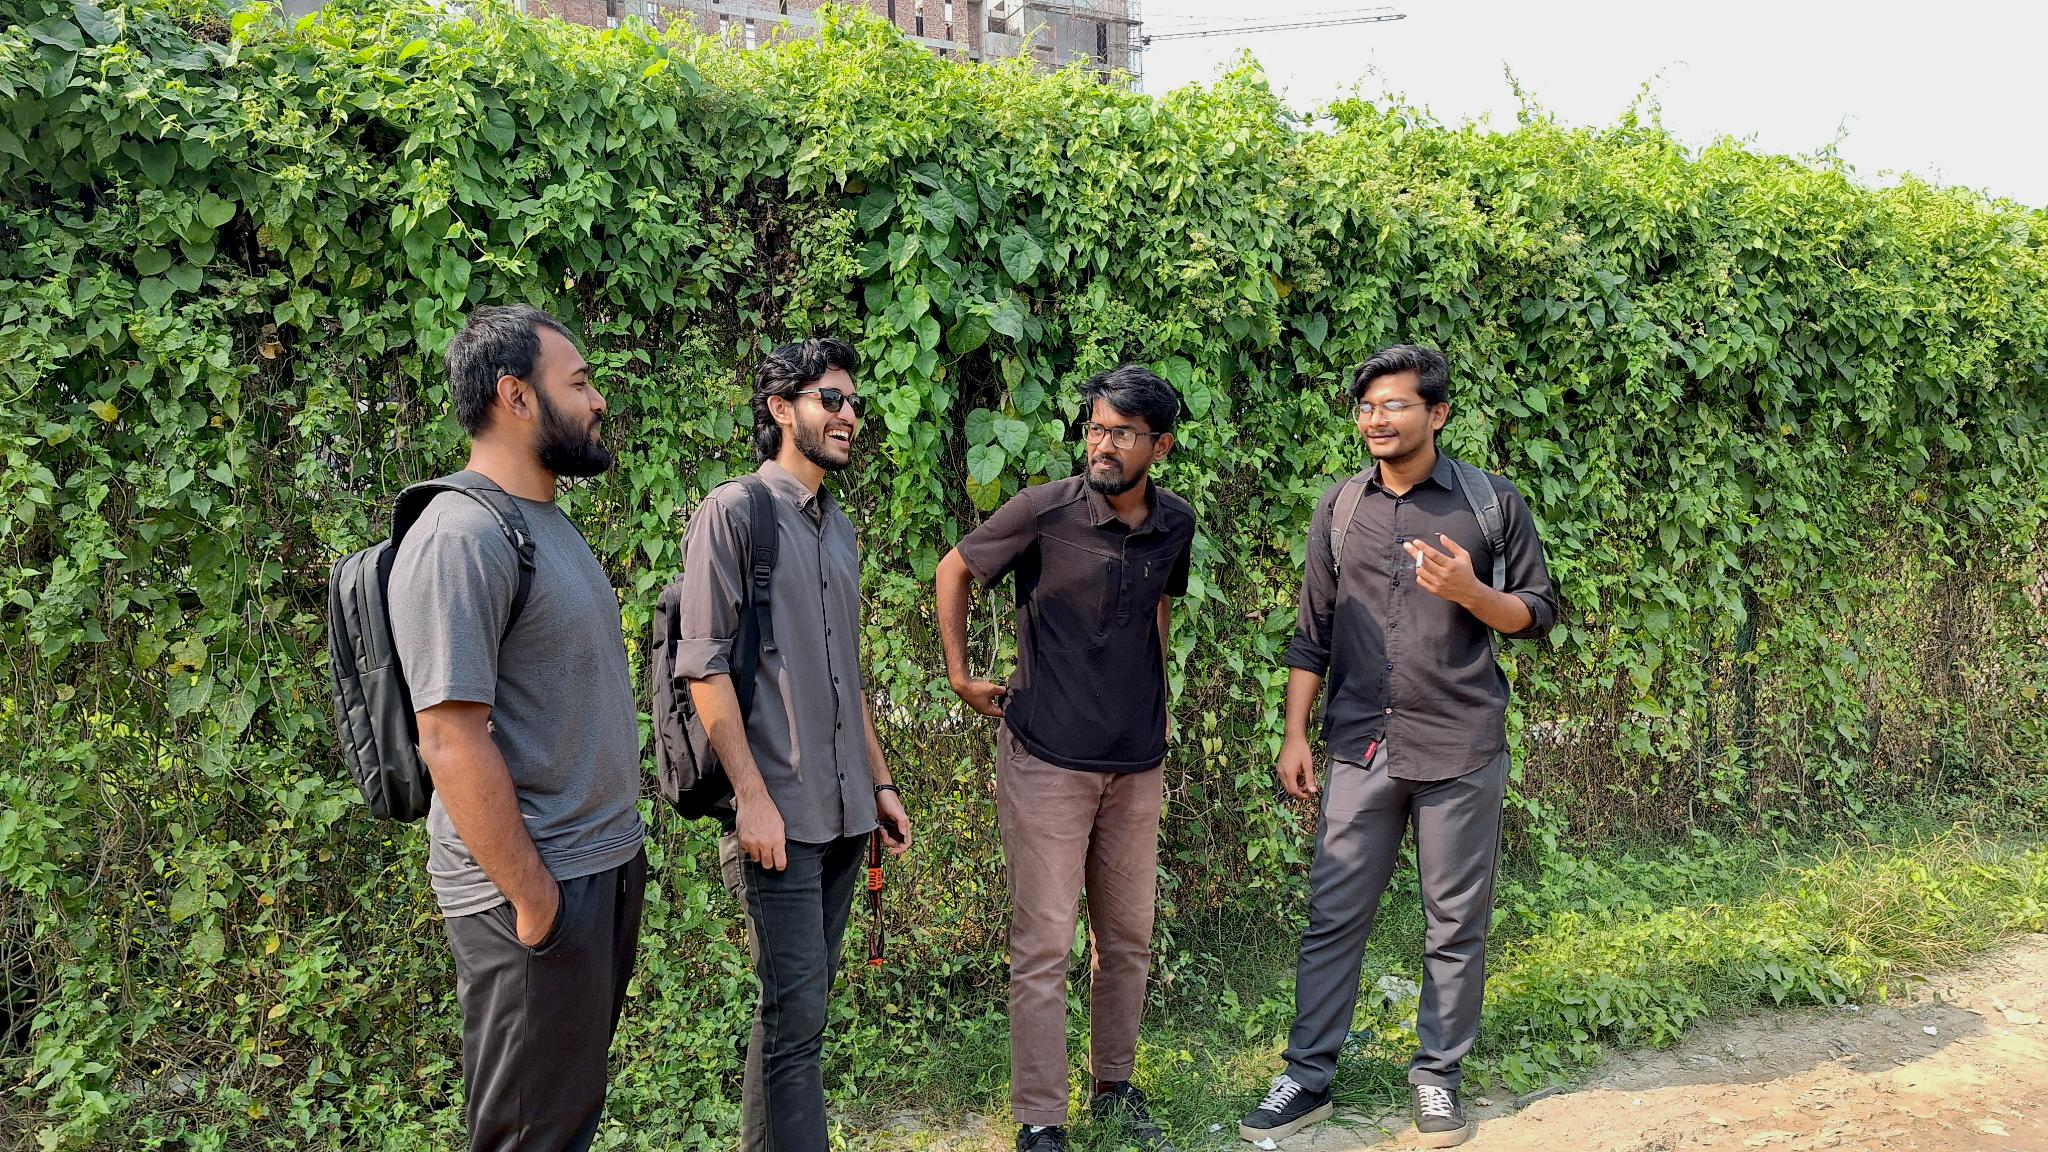cigarette: (1414, 549, 1423, 570)
nonSmoker: (326, 302, 648, 1152), (651, 338, 913, 1152), (935, 366, 1197, 1152)
smoker: (1239, 346, 1557, 1149)
